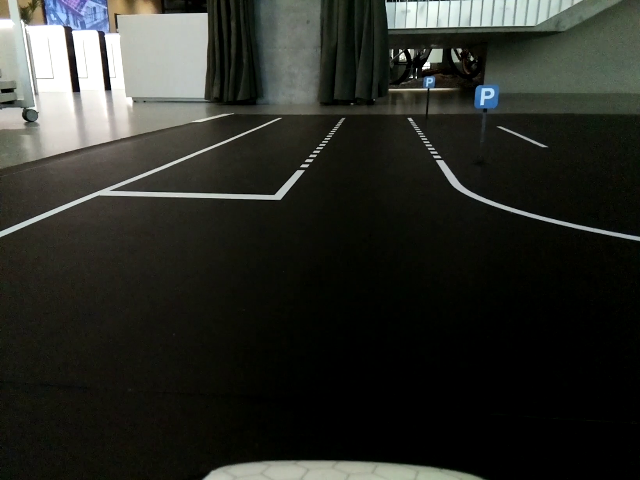park: (475, 85, 498, 108), (425, 76, 437, 88)
